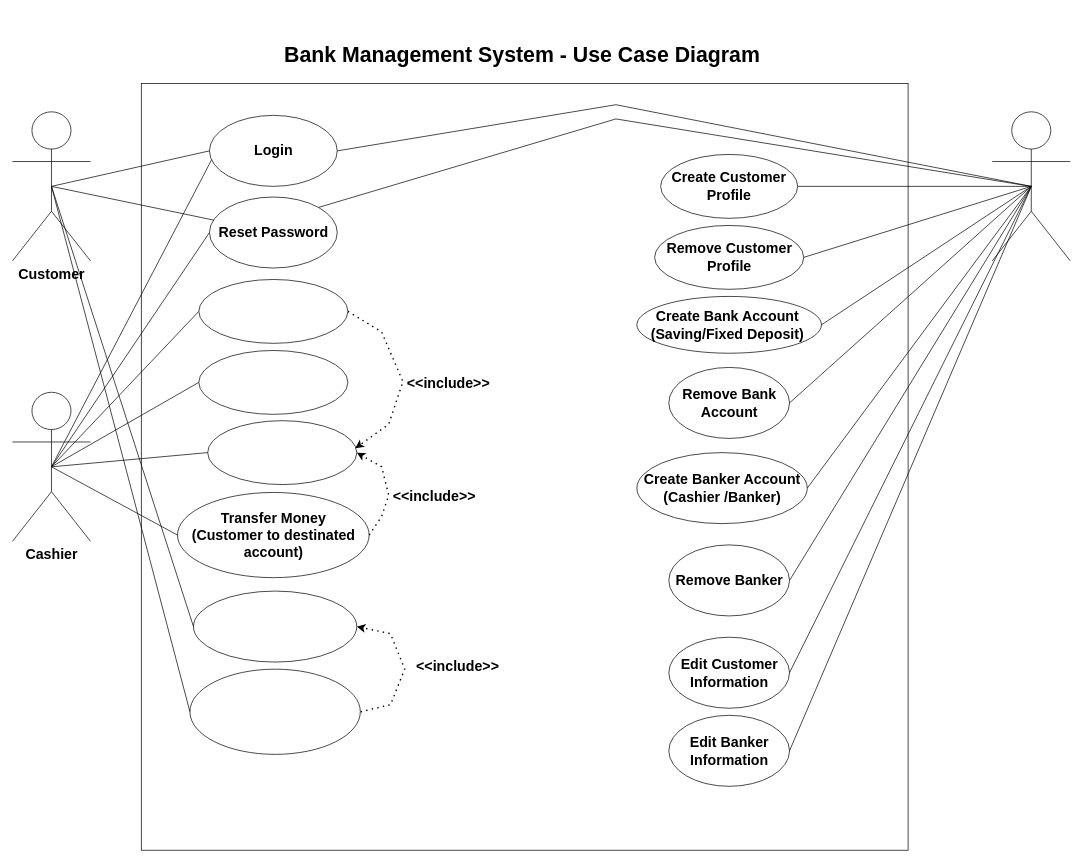
The diagram is 1083 pixels wide and 863 high, and some of its shapes have lost their labels. Each missing label, with the centre of its shape:
Check Account Balance: the point at 282,452
Manager: the point at 1031,186
Process Deposit: the point at 273,382
Process Withdrawal: the point at 273,311
See all Account and Balance: the point at 275,626
Transfer Funds (Between Customers): the point at 274,711
